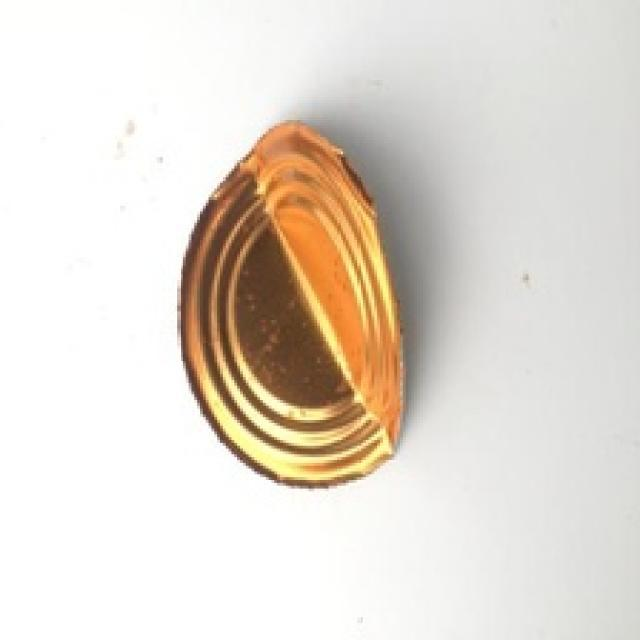recyclable: (178, 116, 409, 491)
